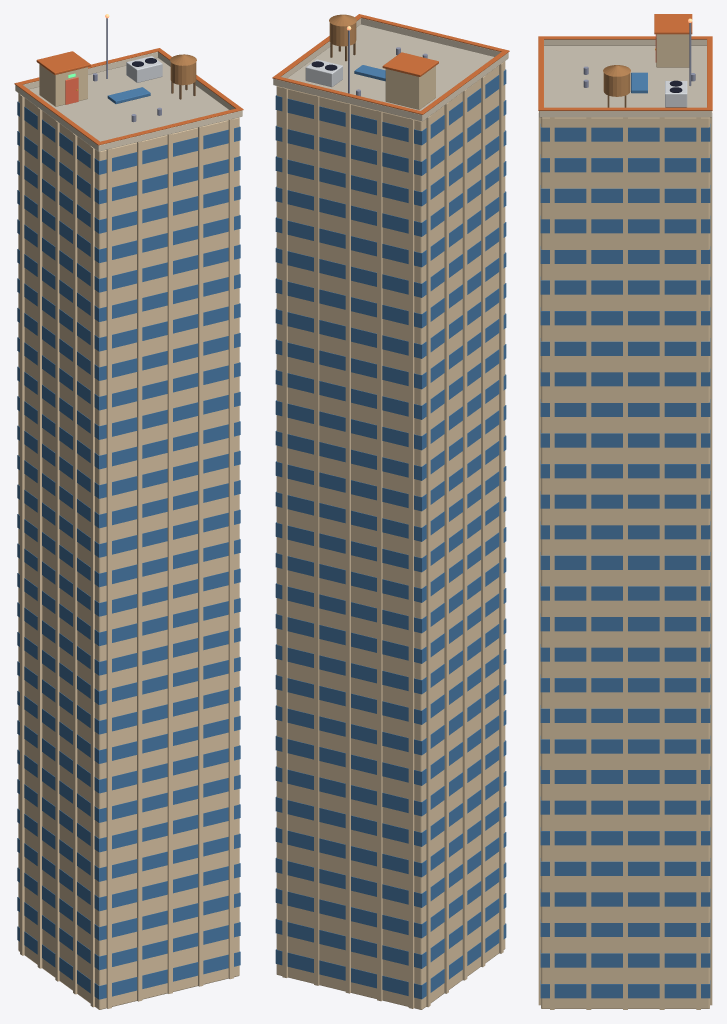
The model's file is skyscraper_roof.glb.
3 views of the same model, side by side, from view 1: azimuth 30°, elevation 25°; view 2: azimuth 150°, elevation 25°; view 3: azimuth 270°, elevation 25° (orthographic). The views are drawn at different scales.
Parts seen in each view (by area): view 1: tower, deck, pierF-11, pierF-1-1, pierF-10, pierF-12, pierF-1-2, pierS-11, pierS-1-2, pierS-10, pierS-12, pierS-1-1 (+36 smaller); view 2: tower, deck, pierF1-2, pierF1-1, pierF12, pierF10, pierF11, pierS-10, pierS-1-2, pierS-1-1, pierS-11, pierS-12 (+37 smaller); view 3: tower, deck, pierS1-1, pierS11, pierS1-2, pierS10, pierS12, pierF-12, pierF12, band5, band10, band15 (+36 smaller).
Boxes of the visible parts, left/top/right/bottom form: tower: left=18, top=93, right=239, bottom=1009; deck: left=29, top=58, right=228, bottom=141; pierF-11: left=198, top=126, right=203, bottom=986; pierF-1-1: left=137, top=141, right=142, bottom=1001; pierF-10: left=167, top=133, right=172, bottom=993; pierF-12: left=228, top=119, right=233, bottom=979; pierF-1-2: left=106, top=148, right=111, bottom=1008; pierS-11: left=37, top=107, right=42, bottom=968; pierS-1-2: left=90, top=146, right=94, bottom=1007; pierS-10: left=55, top=120, right=59, bottom=981; pierS-12: left=20, top=95, right=24, bottom=955; pierS-1-1: left=73, top=133, right=77, bottom=994; tower: left=276, top=61, right=505, bottom=1009; deck: left=287, top=24, right=493, bottom=110; pierF1-2: left=408, top=118, right=414, bottom=1008; pierF1-1: left=377, top=110, right=382, bottom=1001; pierF12: left=282, top=87, right=287, bottom=977; pierF10: left=345, top=103, right=350, bottom=993; pierF11: left=314, top=95, right=319, bottom=985; pierS-10: left=462, top=89, right=467, bottom=980; pierS-1-2: left=499, top=62, right=503, bottom=953; pierS-1-1: left=481, top=76, right=485, bottom=967; pierS-11: left=444, top=102, right=448, bottom=993; pierS-12: left=426, top=116, right=430, bottom=1007; tower: left=541, top=117, right=709, bottom=1008; deck: left=544, top=46, right=706, bottom=107; pierS1-1: left=586, top=117, right=591, bottom=1009; pierS11: left=659, top=117, right=664, bottom=1009; pierS1-2: left=550, top=117, right=554, bottom=1009; pierS10: left=623, top=117, right=627, bottom=1009; pierS12: left=696, top=117, right=700, bottom=1009; pierF-12: left=538, top=111, right=540, bottom=1005; pierF12: left=710, top=111, right=712, bottom=1005; band5: left=540, top=277, right=710, bottom=294; band10: left=540, top=430, right=710, bottom=447; band15: left=540, top=583, right=710, bottom=600.
Bounding box in the file's own units: 12.4 × 75.31 × 12.4.
